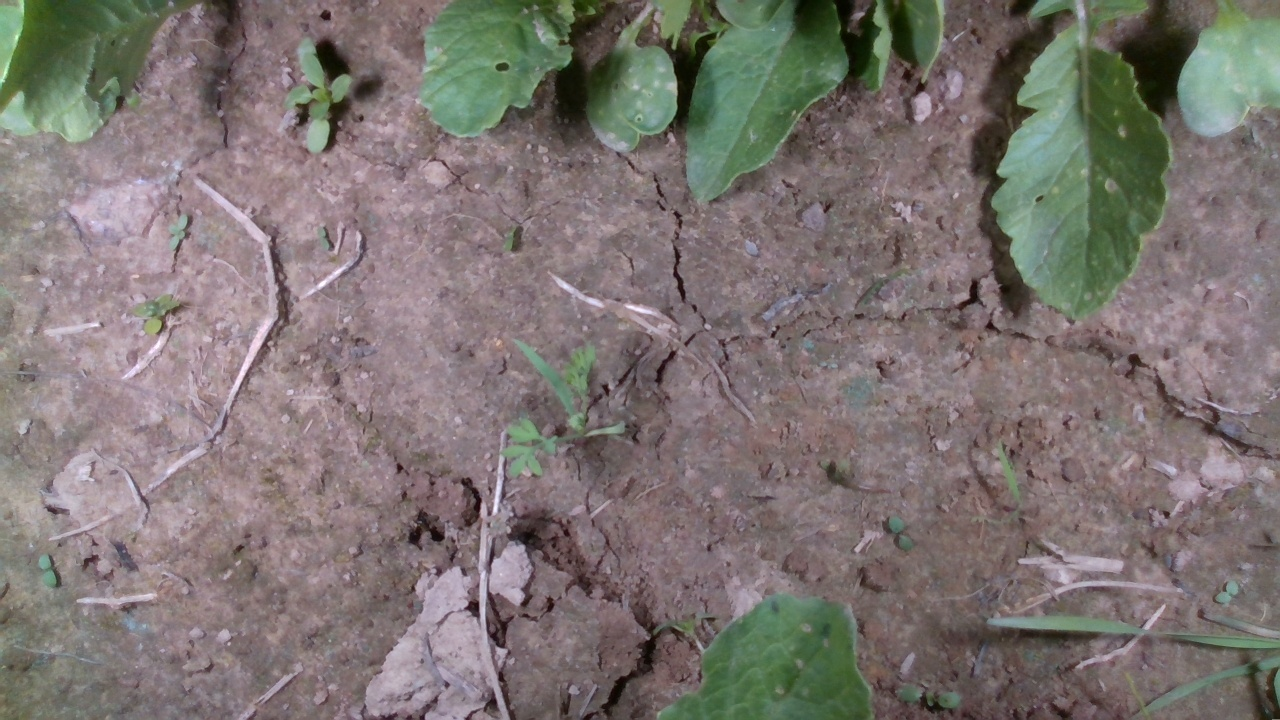weed: (126, 291, 181, 337), (895, 681, 961, 710), (888, 513, 913, 552), (167, 211, 188, 251), (37, 552, 58, 588), (1213, 579, 1239, 604), (316, 226, 330, 252)
